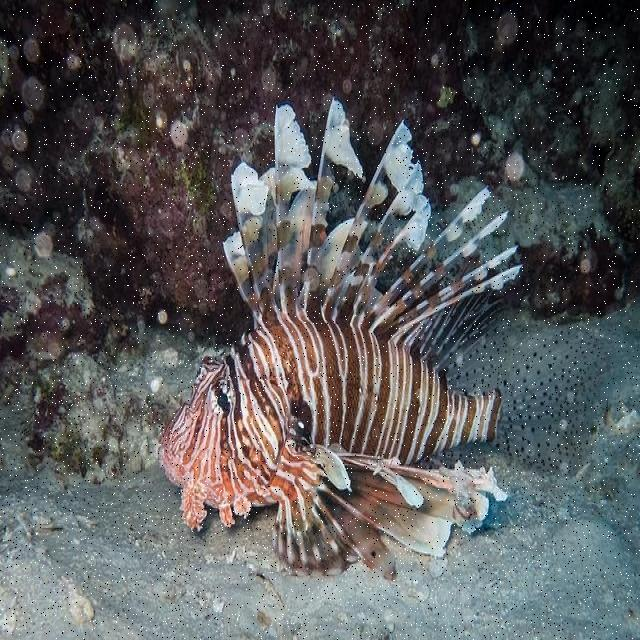fish: (158, 98, 611, 580)
